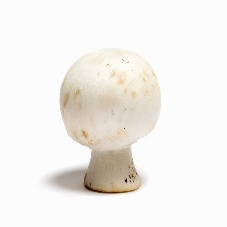mushroom: (60, 44, 163, 196)
